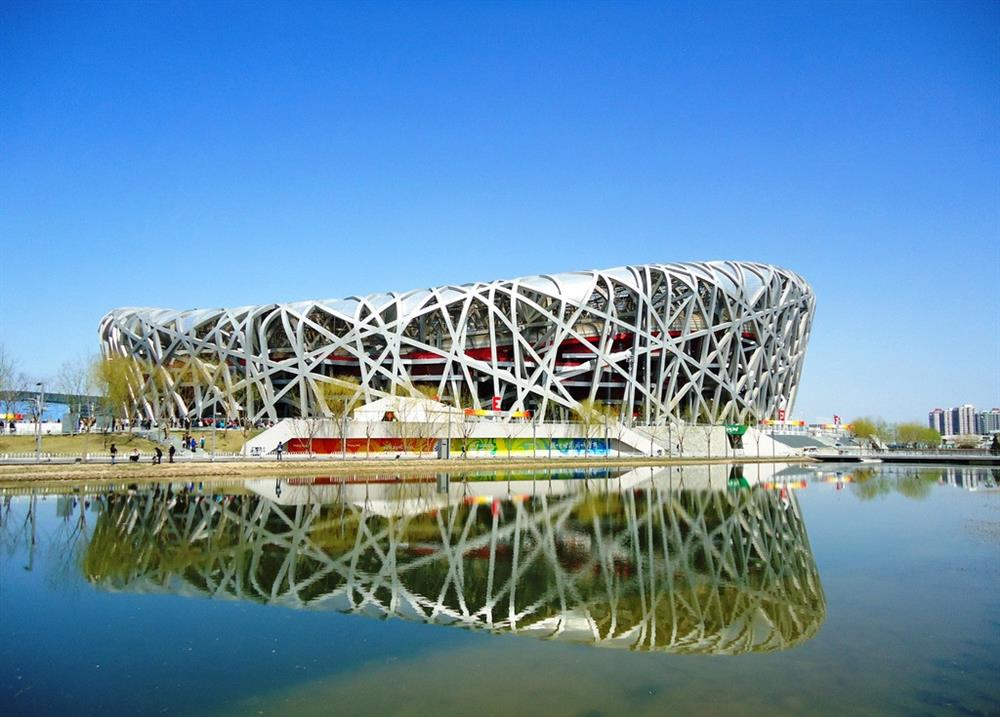National_Stadium: (97, 257, 813, 433)
